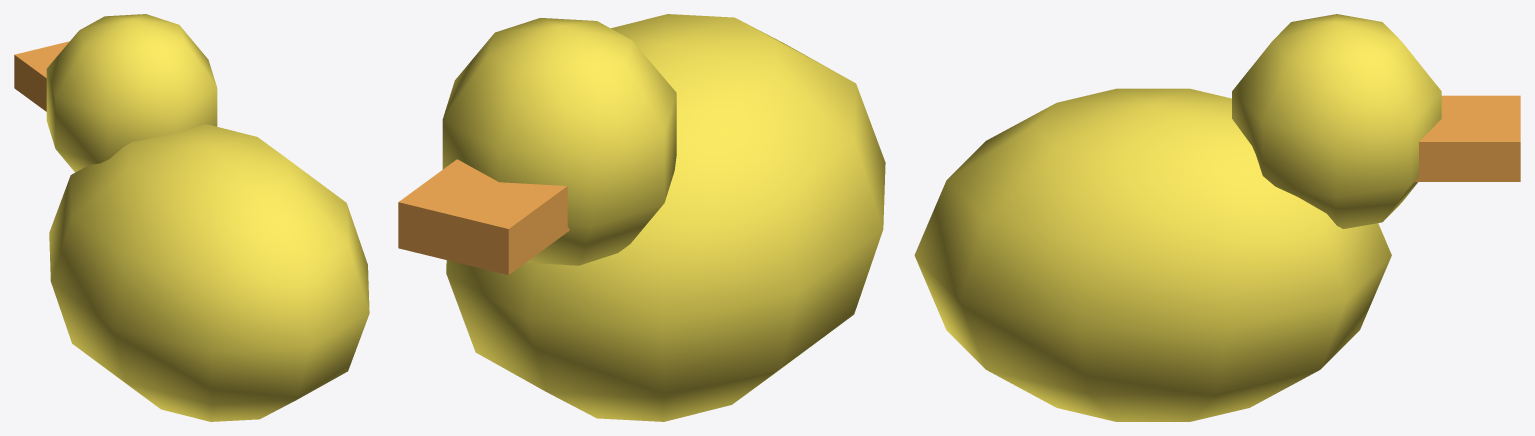
File: dog_toy_duck.glb
3 renders of one model, left to right at view 1: azimuth 30°, elevation 25°; view 2: azimuth 150°, elevation 25°; view 3: azimuth 270°, elevation 25°, orthographic. The views are drawn at different scales.
Visible parts, largest first — view 1: dog_toy_duck; view 2: dog_toy_duck; view 3: dog_toy_duck.
Boxes of the visible parts, x1=… form: dog_toy_duck: x1=14, y1=14, x2=369, y2=421; dog_toy_duck: x1=398, y1=14, x2=885, y2=421; dog_toy_duck: x1=914, y1=14, x2=1520, y2=421.
Size of the model in its own units: 0.0951 by 0.115 by 0.165.
